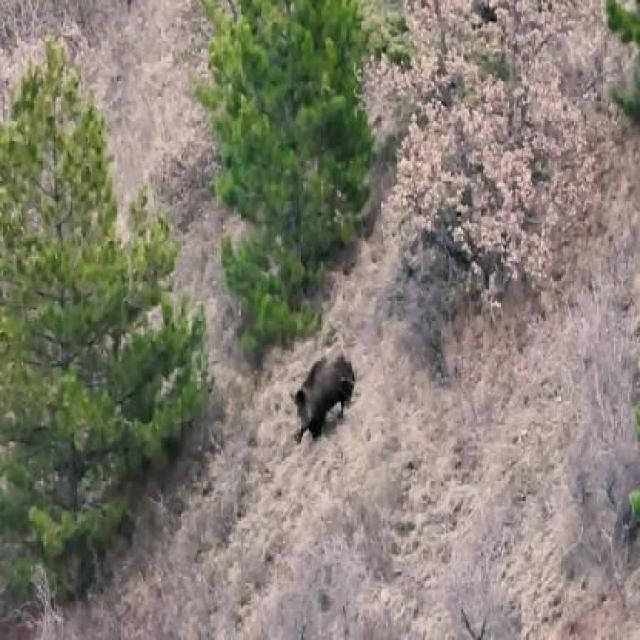pig: (289, 335, 351, 458)
